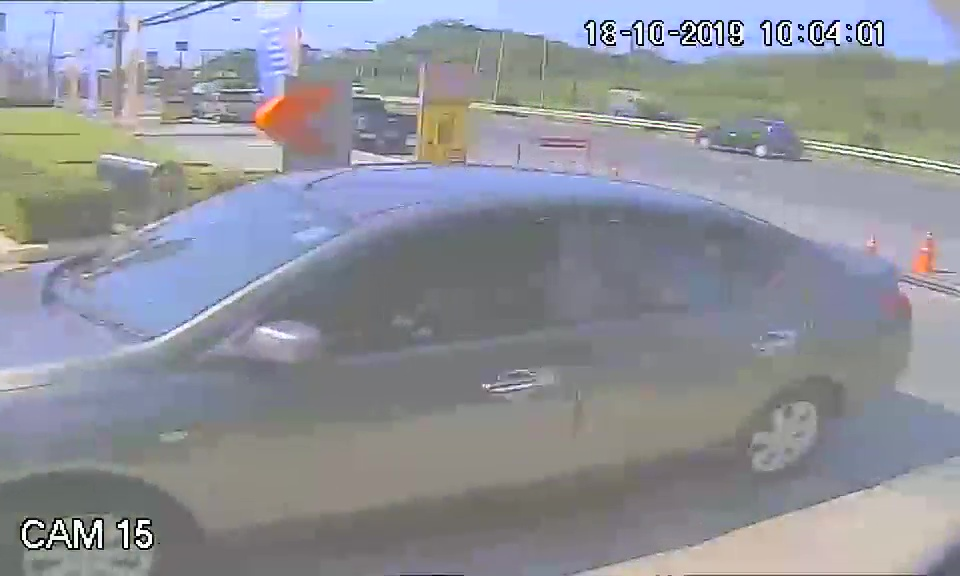sedan: (8, 167, 910, 525)
